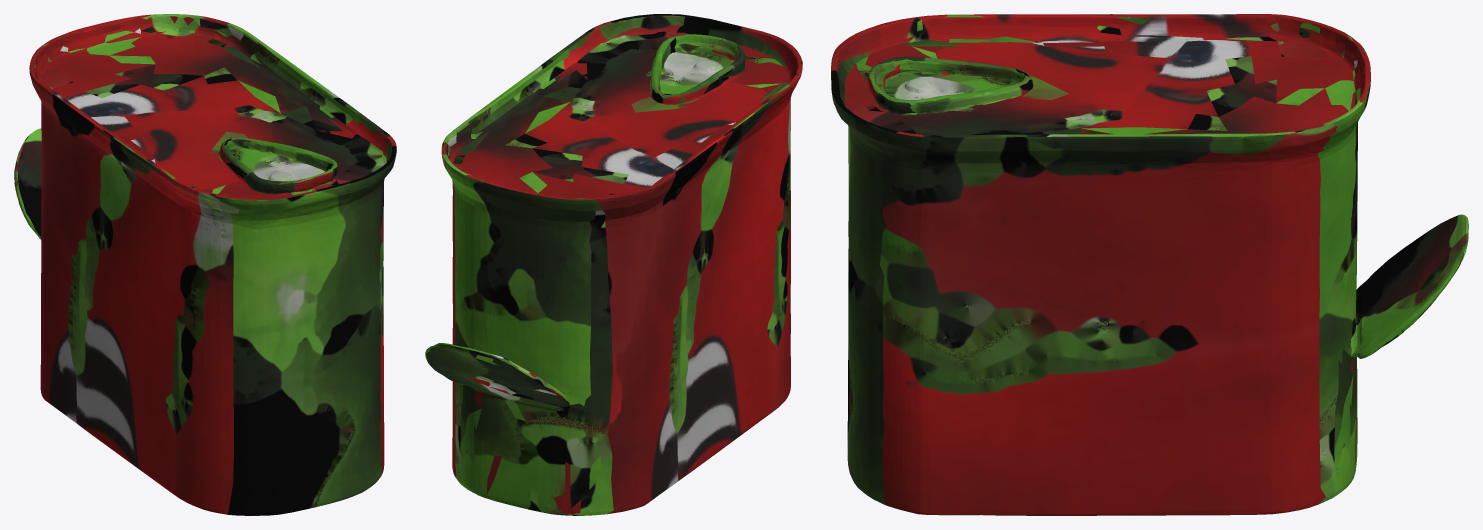
The model's file is sample.obj.
3 views of the same model, side by side, from view 1: azimuth 30°, elevation 25°; view 2: azimuth 150°, elevation 25°; view 3: azimuth 270°, elevation 25° (orthographic). The views are drawn at different scales.
Size of the model in its own units: 0.0923 by 0.135 by 0.2017.
